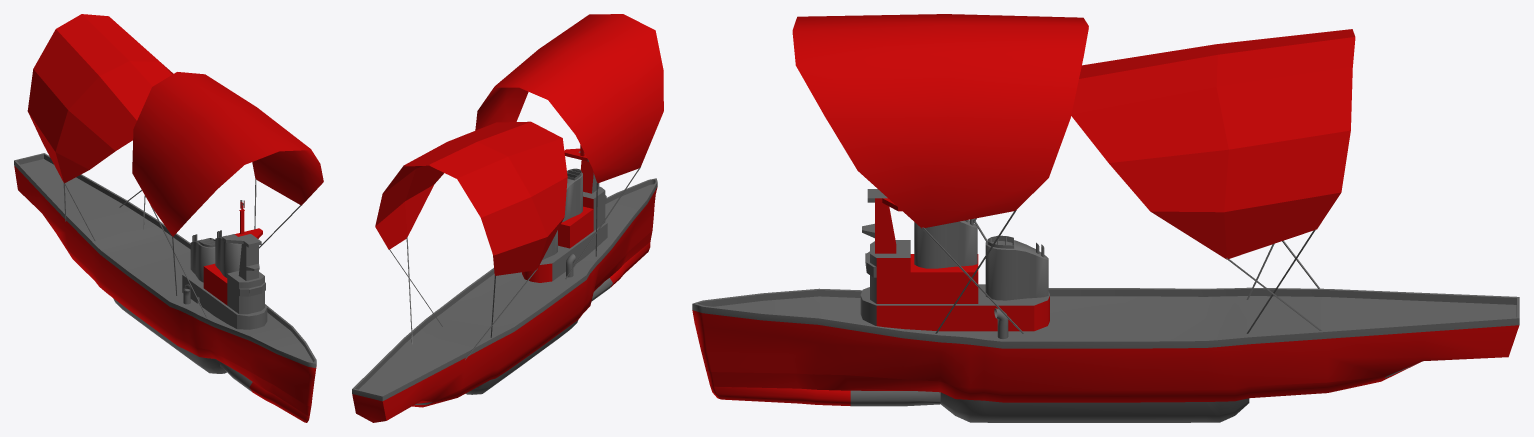
The model's file is navy_ship_2.FBX.
3 renders of one model, left to right at view 1: azimuth 30°, elevation 25°; view 2: azimuth 150°, elevation 25°; view 3: azimuth 270°, elevation 25°, orthographic. The views are drawn at different scales.
Visible parts, largest first — view 1: navy_ship_2; view 2: navy_ship_2; view 3: navy_ship_2.
Part boxes in pixels (x1,y1,x2,y2): navy_ship_2: (14,14,323,422); navy_ship_2: (352,14,663,422); navy_ship_2: (692,14,1519,422).
Size of the model in its own units: 330 by 595 by 1131.
